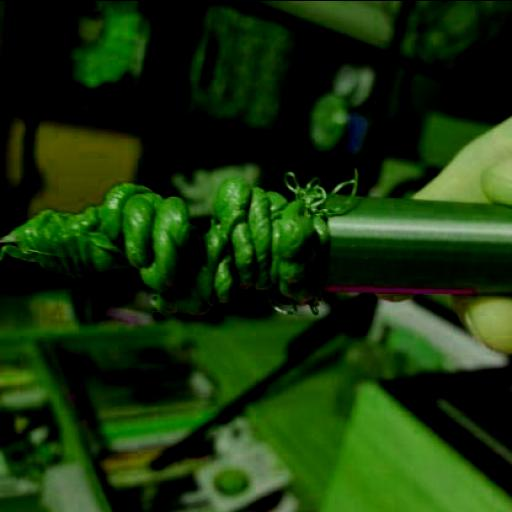spaghetti: (0, 161, 367, 324)
